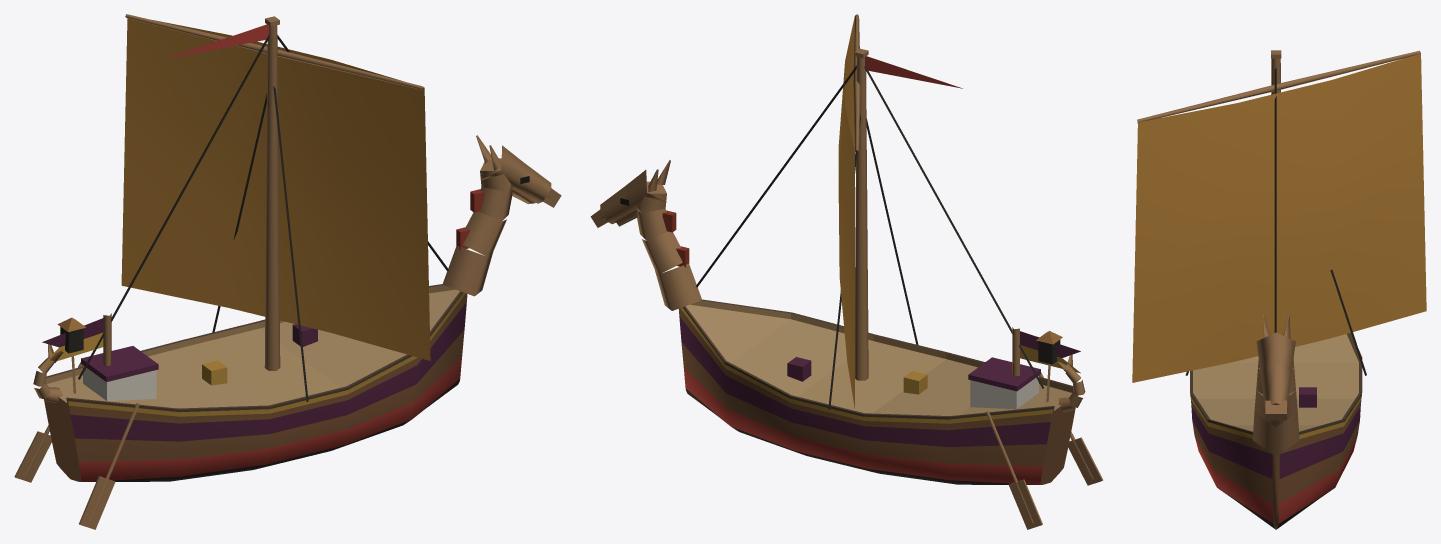
The model's file is hull_fiat_hippos_boat.glb.
3 views of the same model, side by side, from view 1: azimuth 30°, elevation 25°; view 2: azimuth 150°, elevation 25°; view 3: azimuth 270°, elevation 25° (orthographic). The views are drawn at different scales.
Parts seen in each view (by area): view 1: sail_main, hull, deck, mast, rigging, flag, yards; view 2: hull, deck, sail_main, mast, rigging, flag, yards; view 3: sail_main, hull, yards, rigging, deck, mast.
Part boxes in pixels (x1=…): sail_main: x1=121, y1=18, x2=430, y2=360; hull: x1=33, y1=135, x2=561, y2=481; deck: x1=14, y1=317, x2=317, y2=529; mast: x1=103, y1=16, x2=280, y2=370; rigging: x1=78, y1=34, x2=448, y2=401; flag: x1=42, y1=24, x2=268, y2=365; yards: x1=125, y1=14, x2=423, y2=90; hull: x1=590, y1=160, x2=1085, y2=484; deck: x1=787, y1=331, x2=1103, y2=529; sail_main: x1=838, y1=16, x2=854, y2=408; mast: x1=854, y1=48, x2=1019, y2=380; rigging: x1=696, y1=65, x2=1043, y2=409; flag: x1=865, y1=56, x2=1080, y2=373; yards: x1=853, y1=14, x2=860, y2=151; sail_main: x1=1132, y1=53, x2=1426, y2=382; hull: x1=1190, y1=314, x2=1362, y2=529; yards: x1=1137, y1=50, x2=1420, y2=123; rigging: x1=1185, y1=68, x2=1366, y2=375; deck: x1=1299, y1=387, x2=1316, y2=407; mast: x1=1271, y1=50, x2=1281, y2=94.
Bounding box in the file's own units: 9.48 × 7.56 × 4.86.
